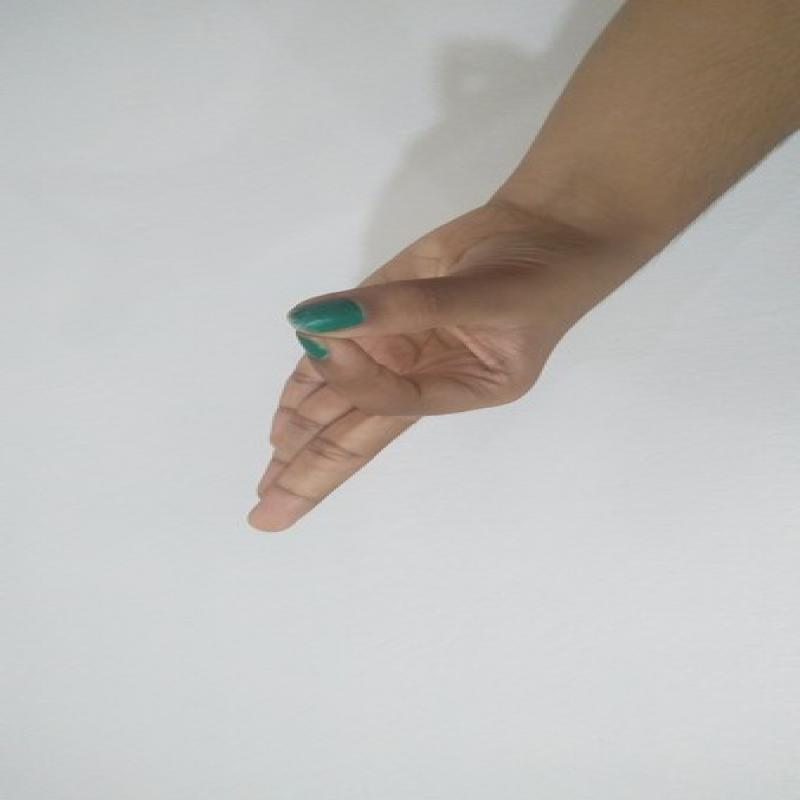Mudraakhyam: (223, 199, 566, 546)
